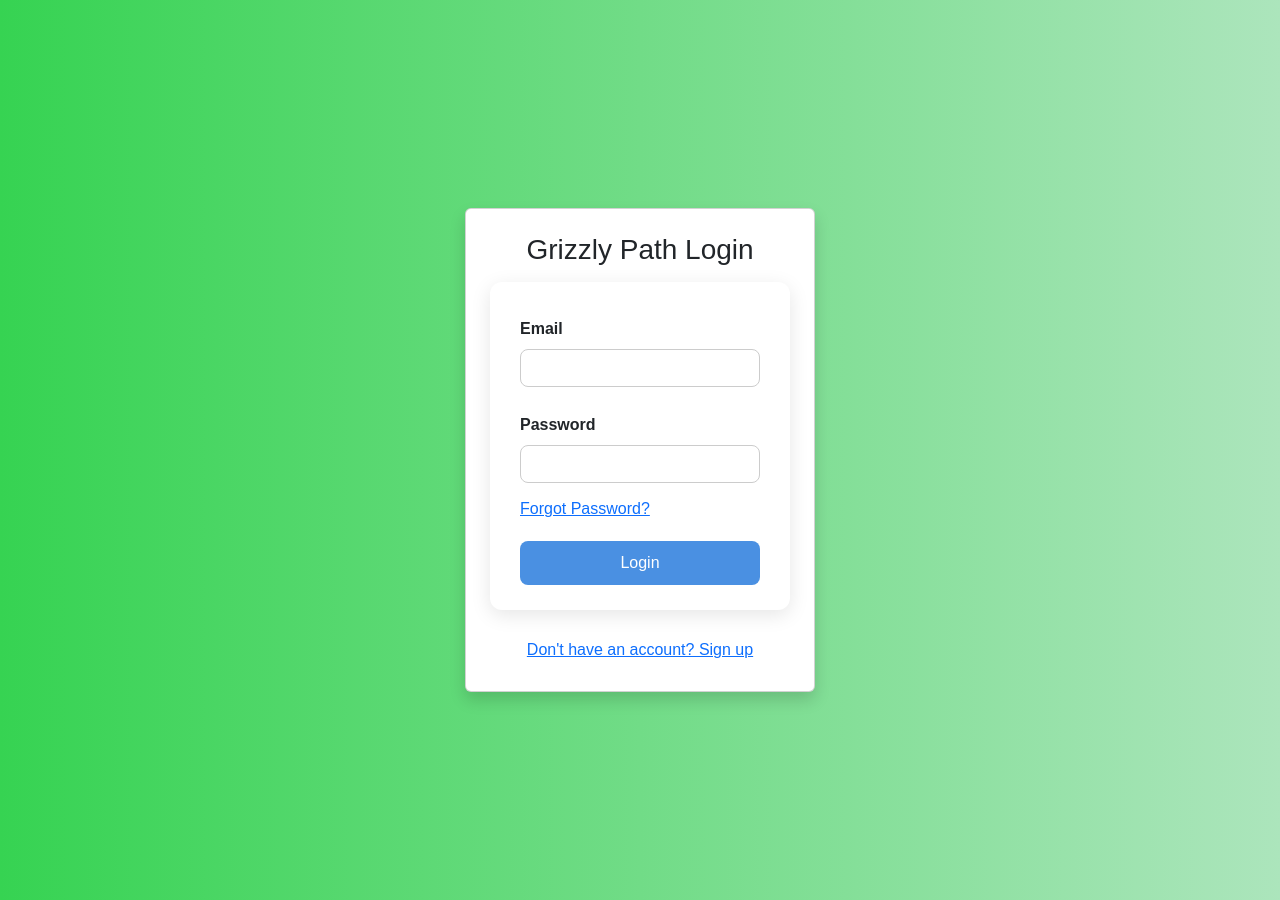
Login Component › displays error when User authenticates but has NO Database Record
Type "ghost@ggc.edu" into the field labelled "Email" at (640, 368), box [520,349,760,387]
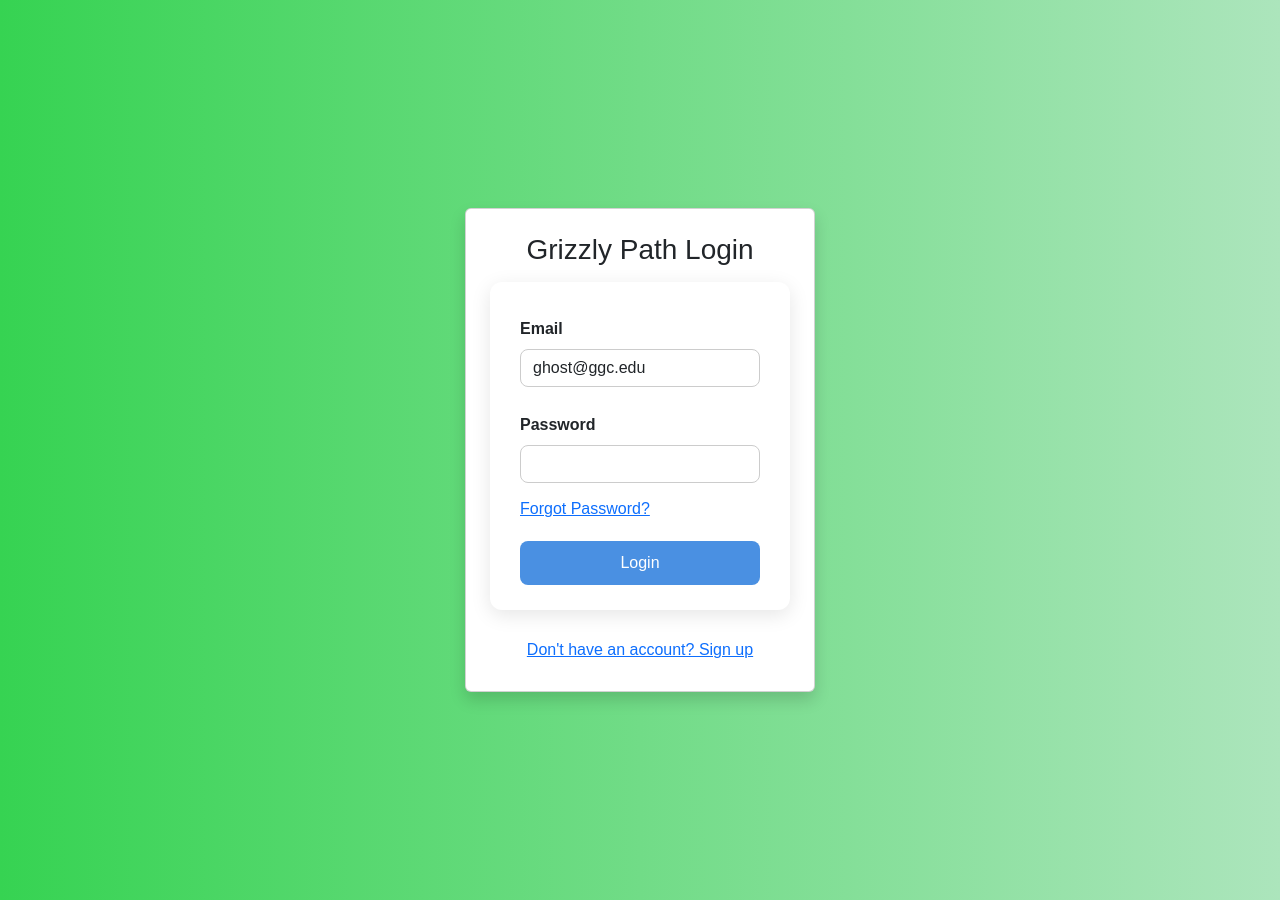
Type "password" into the password field labelled "Password" at (640, 464), box [520,445,760,483]
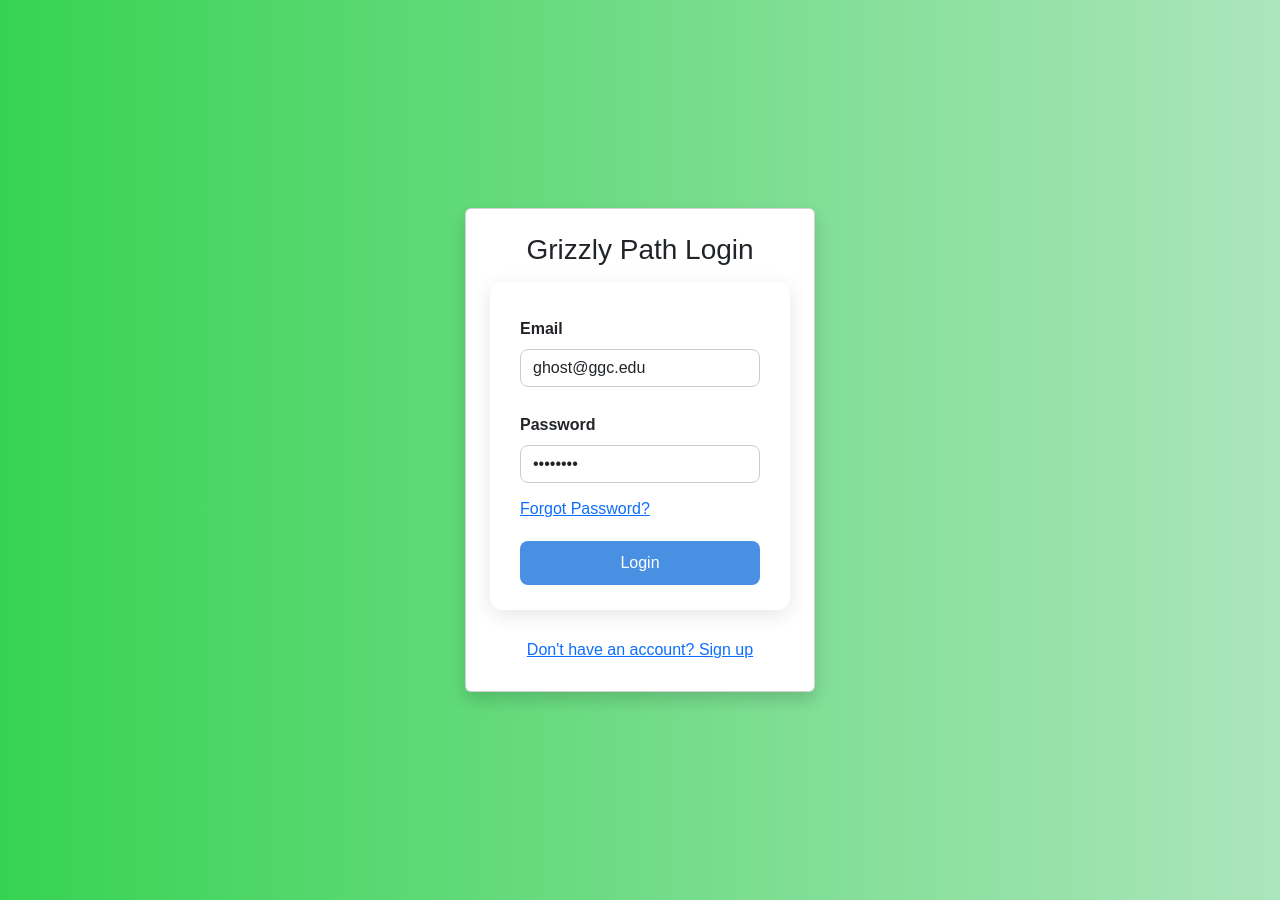
Click the button "Login" at (640, 563), box [520,541,760,585]
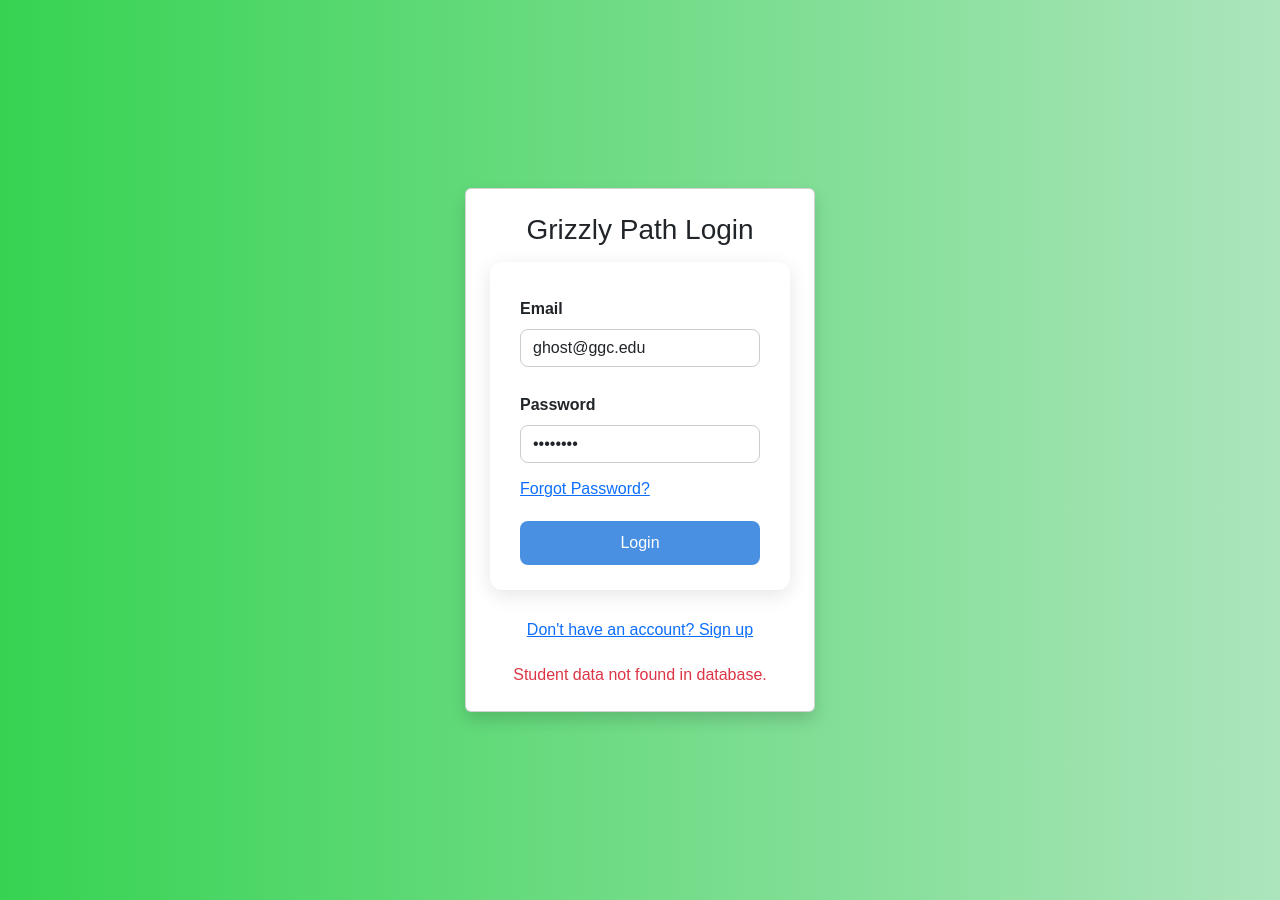
Check: the text "Student data not found in database." is shown, box [513,666,767,684]
